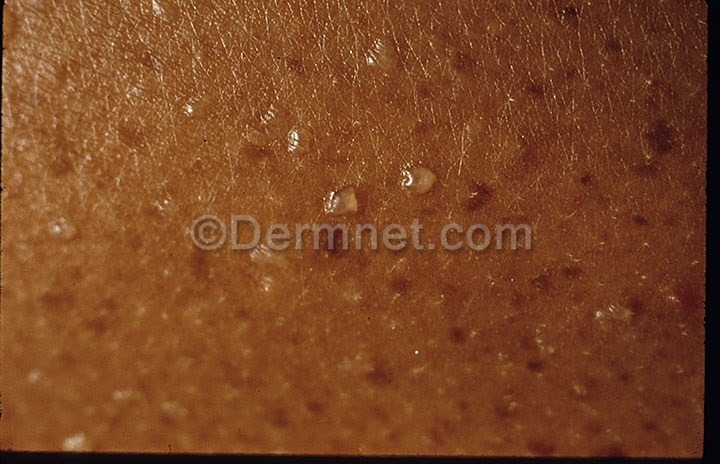Melasma: (3, 0, 710, 219), (0, 260, 707, 445)
